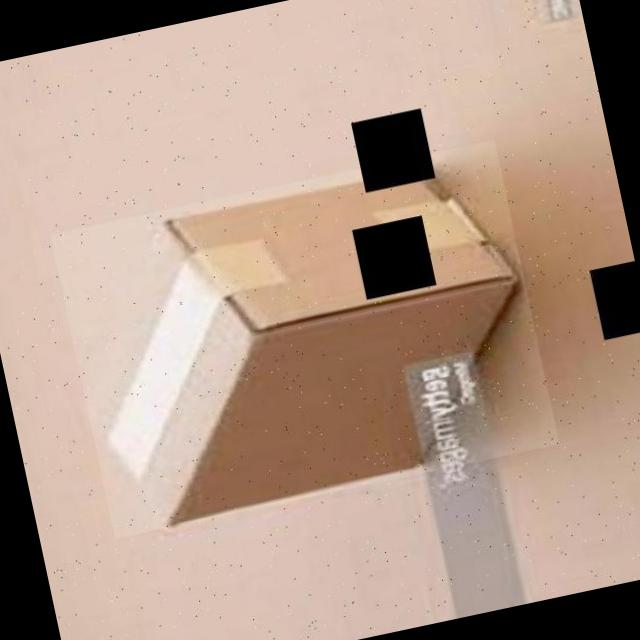box: (50, 140, 559, 538)
